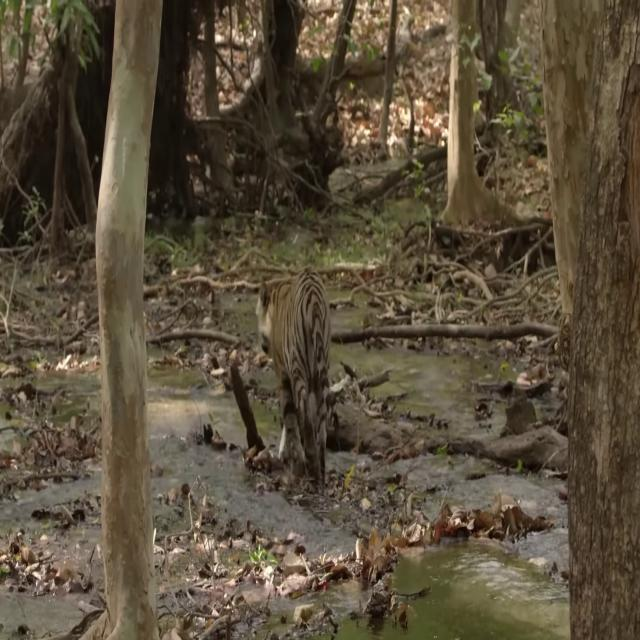tiger: (255, 265, 331, 479)
